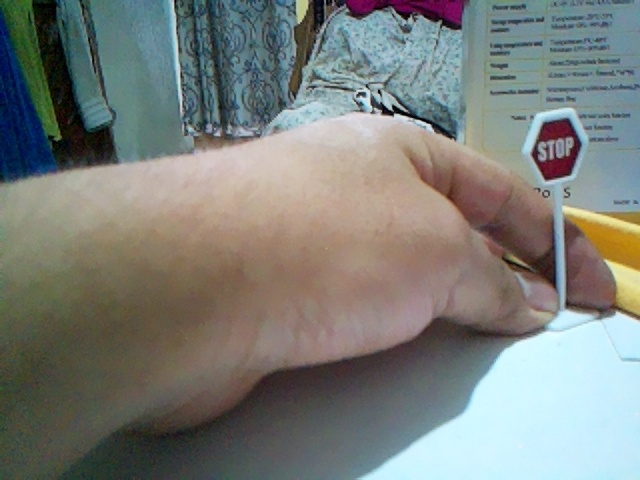stop_sign: (522, 108, 588, 184)
